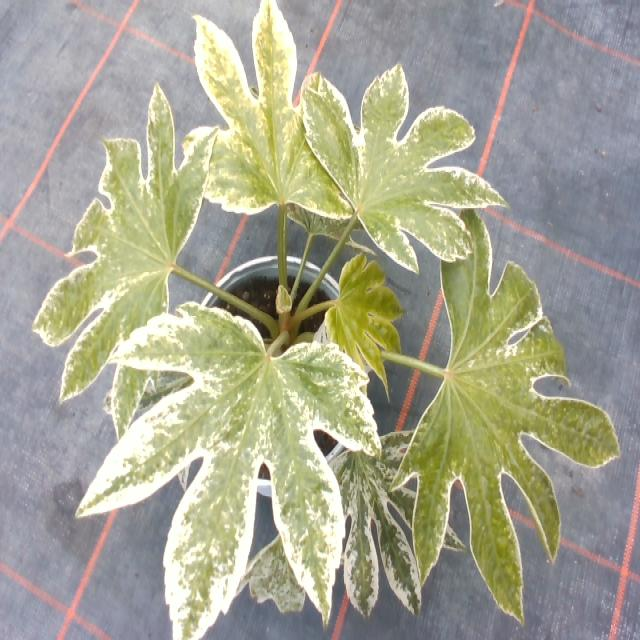Fatsia-japonica: (82, 270, 388, 636), (390, 199, 624, 629), (40, 77, 220, 406), (153, 3, 377, 248), (290, 66, 497, 286), (286, 431, 478, 629), (321, 252, 406, 390)
